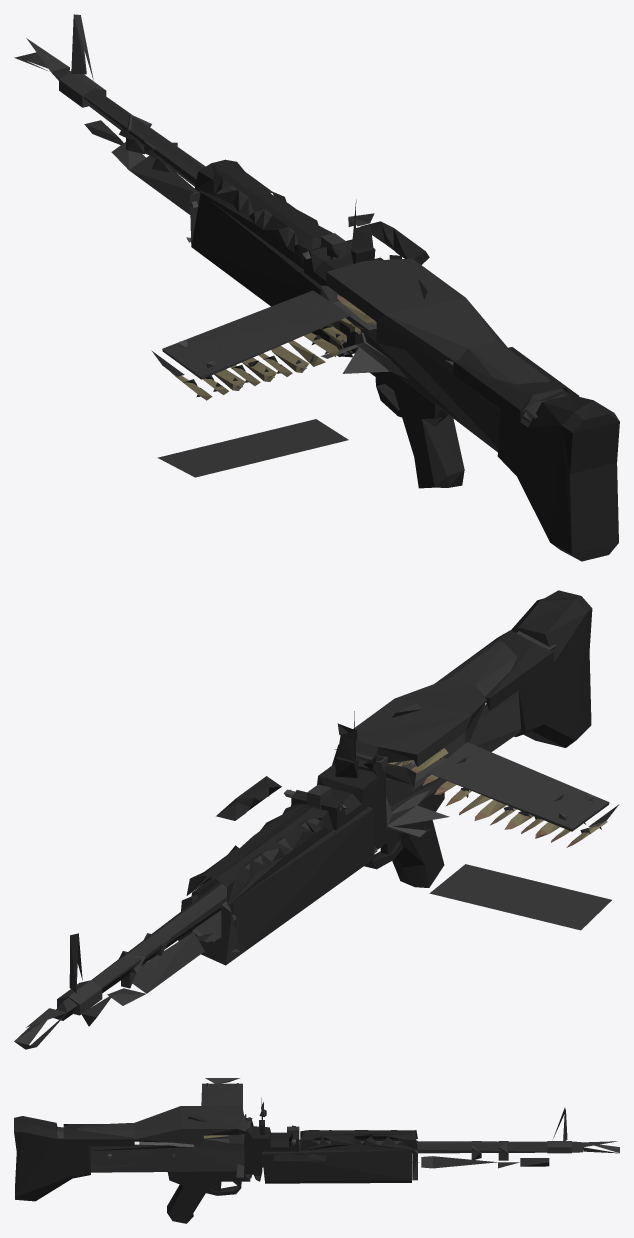
3 views of the same model, one above another, from view 1: azimuth 30°, elevation 25°; view 2: azimuth 150°, elevation 25°; view 3: azimuth 270°, elevation 25° (orthographic). The views are drawn at different scales.
Parts seen in each view (by area): view 1: Object_25, Object_24, Object_38, Object_33, Object_29; view 2: Object_25, Object_24, Object_38, Object_29, Object_33, Object_36, Object_31; view 3: Object_25, Object_24, Object_38, Object_29, Object_36.
Part boxes in pixels (x1=…): Object_25: x1=183, y1=159, x2=619, y2=561; Object_24: x1=14, y1=14, x2=564, y2=477; Object_38: x1=51, y1=68, x2=569, y2=410; Object_33: x1=175, y1=302, x2=376, y2=400; Object_29: x1=151, y1=201, x2=408, y2=378; Object_25: x1=186, y1=590, x2=601, y2=953; Object_24: x1=14, y1=631, x2=611, y2=1049; Object_38: x1=53, y1=639, x2=539, y2=1026; Object_29: x1=231, y1=757, x2=619, y2=952; Object_33: x1=389, y1=748, x2=607, y2=841; Object_36: x1=358, y1=757, x2=446, y2=790; Object_31: x1=388, y1=762, x2=579, y2=847; Object_25: x1=14, y1=1109, x2=417, y2=1223; Object_24: x1=57, y1=1083, x2=619, y2=1180; Object_38: x1=63, y1=1098, x2=583, y2=1168; Object_29: x1=108, y1=1078, x2=416, y2=1179; Object_36: x1=203, y1=1114, x2=246, y2=1143.
Bounding box in the file's own units: 0.3087 × 0.225 × 0.9851.
